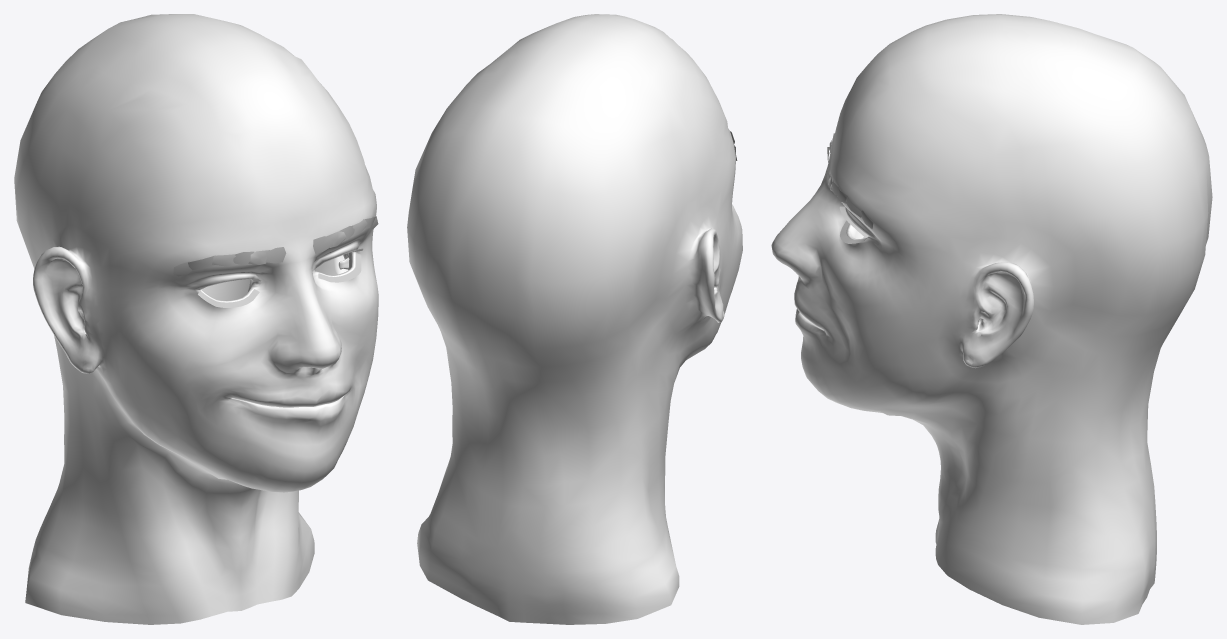
File: mouthSmileRight.obj
3 renders of one model, left to right at view 1: azimuth 30°, elevation 25°; view 2: azimuth 150°, elevation 25°; view 3: azimuth 270°, elevation 25°, orthographic. The views are drawn at different scales.
Visible parts, largest first — view 1: FaceMesh_Plane.003; view 2: FaceMesh_Plane.003; view 3: FaceMesh_Plane.003.
Part boxes in pixels (box(x1,y1,x2,y2)): FaceMesh_Plane.003: box(14, 14, 378, 624); FaceMesh_Plane.003: box(407, 14, 742, 624); FaceMesh_Plane.003: box(771, 14, 1212, 624).
Bounding box in the file's own units: 1.54 × 2.71 × 1.94.
Materials: 5 (1 with a texture image).
